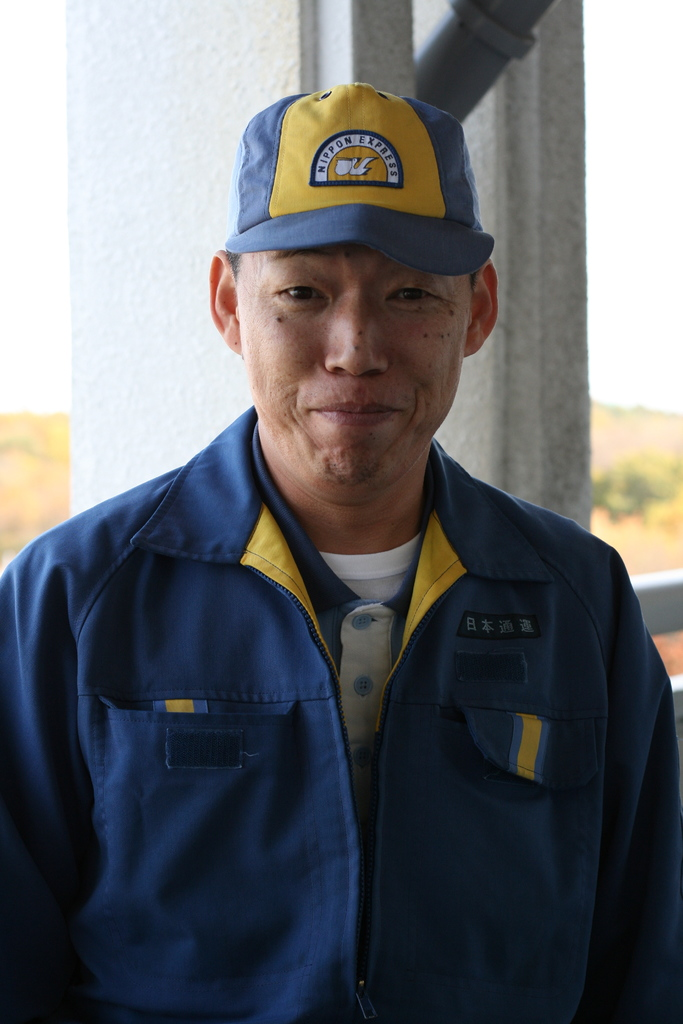Person: (0, 82, 683, 1023)
